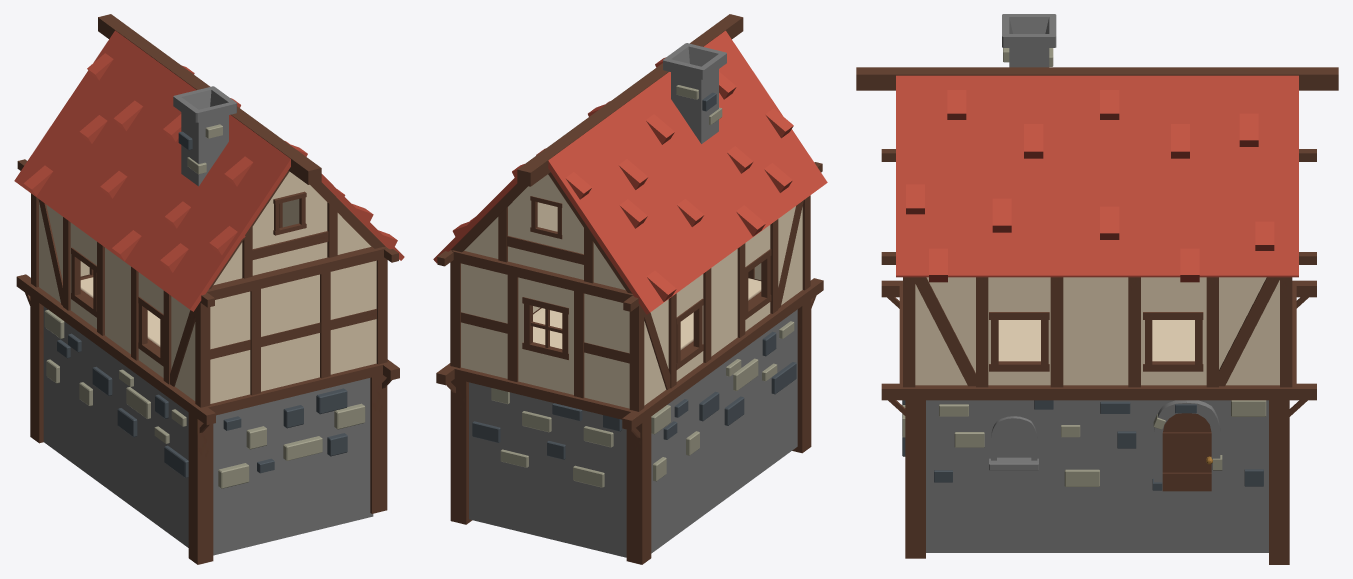
The model's file is NPCHouse.fbx.
3 renders of one model, left to right at view 1: azimuth 30°, elevation 25°; view 2: azimuth 150°, elevation 25°; view 3: azimuth 270°, elevation 25°, orthographic. The views are drawn at different scales.
Parts seen in each view (by area): view 1: NPCHouse; view 2: NPCHouse; view 3: NPCHouse.
Part boxes in pixels (x1,y1,x2,y2): NPCHouse: (14, 14, 404, 564); NPCHouse: (433, 14, 827, 564); NPCHouse: (856, 14, 1338, 564).
Bounding box in the file's own units: 10.74 × 18.61 × 17.27.
